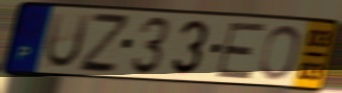3: (130, 15, 171, 77), (170, 18, 212, 78)
E: (213, 22, 269, 81)
O: (257, 23, 302, 82)
U: (43, 11, 93, 71)
Z: (76, 10, 131, 75)
